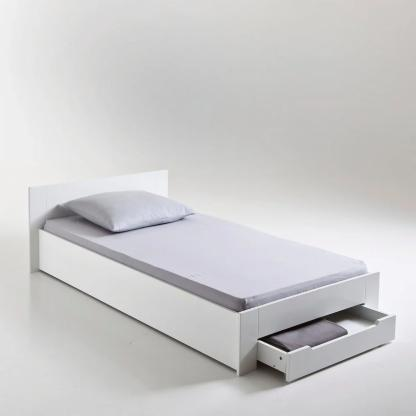fan: (20, 169, 394, 376)
